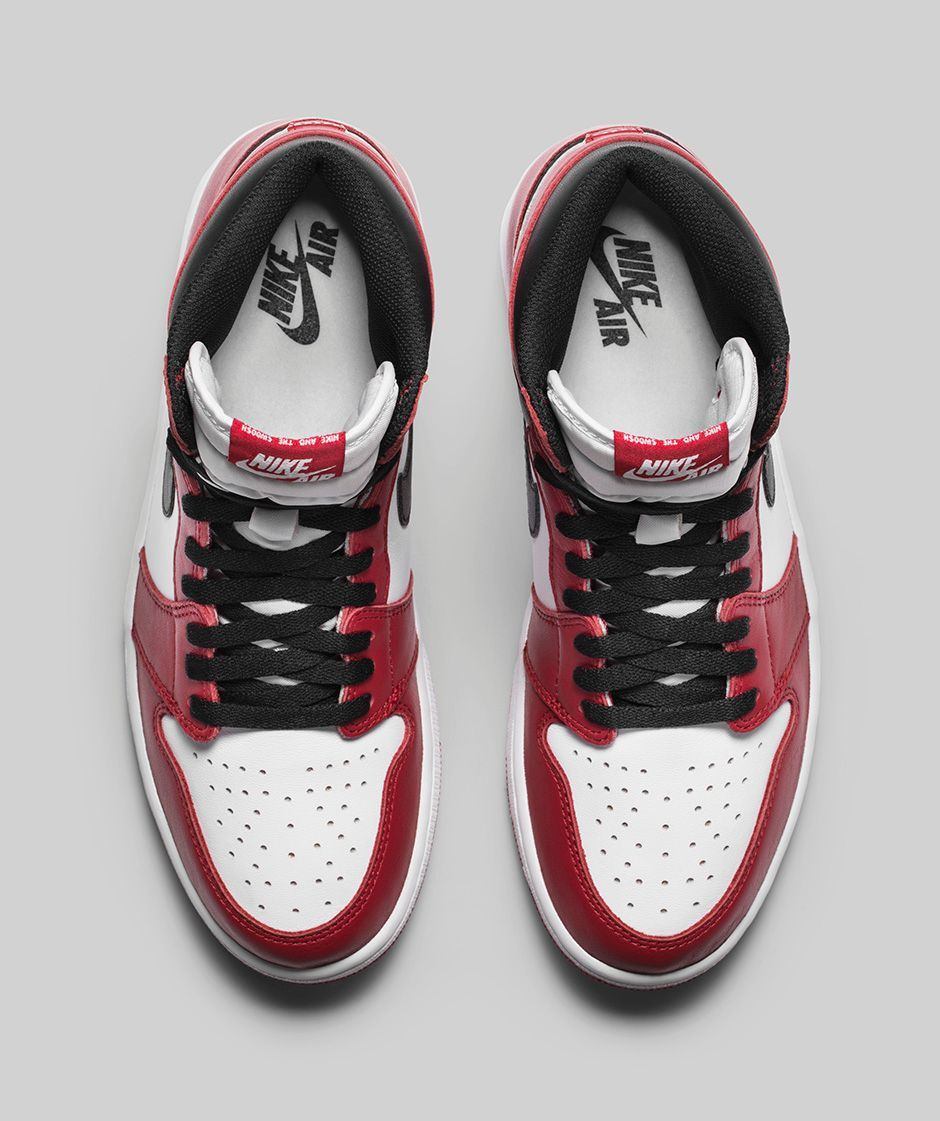shoes: (113, 92, 452, 1009), (490, 100, 827, 1013)
